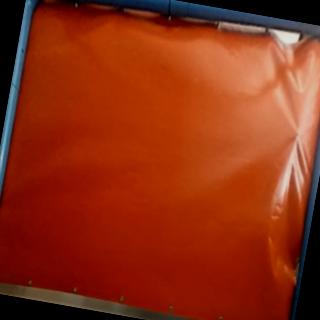Hit-hRxx: (290, 126, 303, 142)
